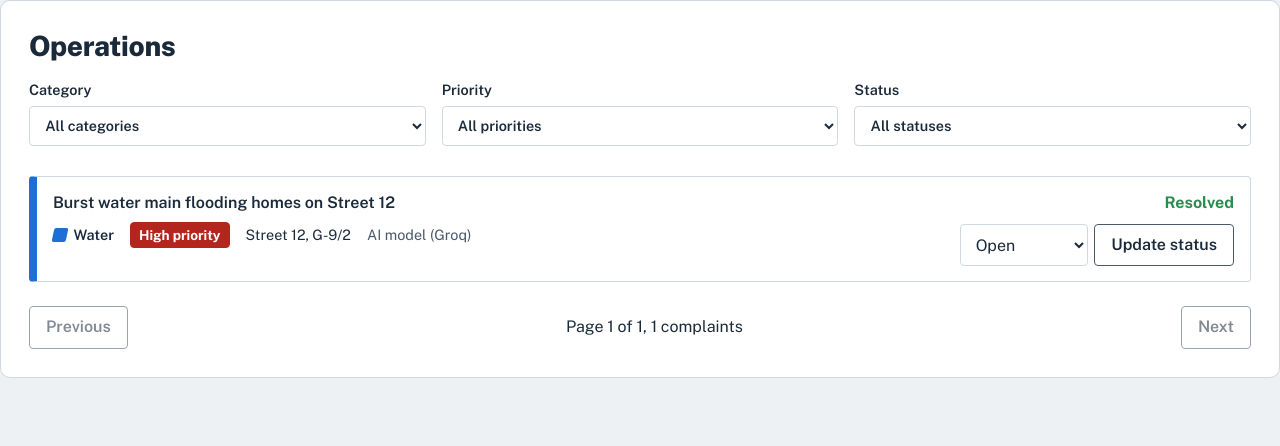
Test: surfaces the server's 409 message verbatim on an invalid transition
Expected: the text "Burst water main flooding homes on Street 12" is shown, [53, 193, 395, 212]
Select "Open" in the dropdown named "Change status": x=1024, y=245 [960, 224, 1088, 266]
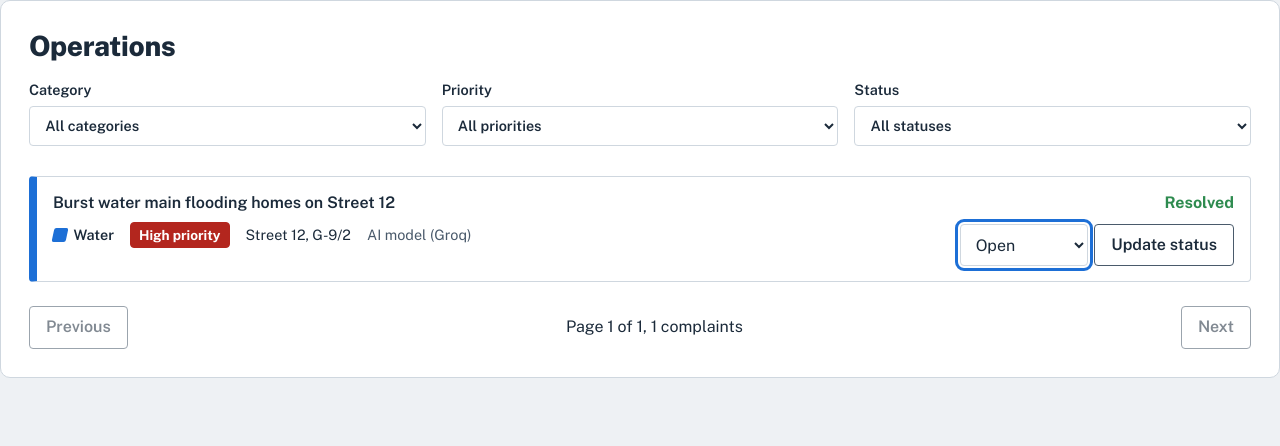
Click the button "Update status": x=1164, y=245 [1094, 224, 1234, 266]
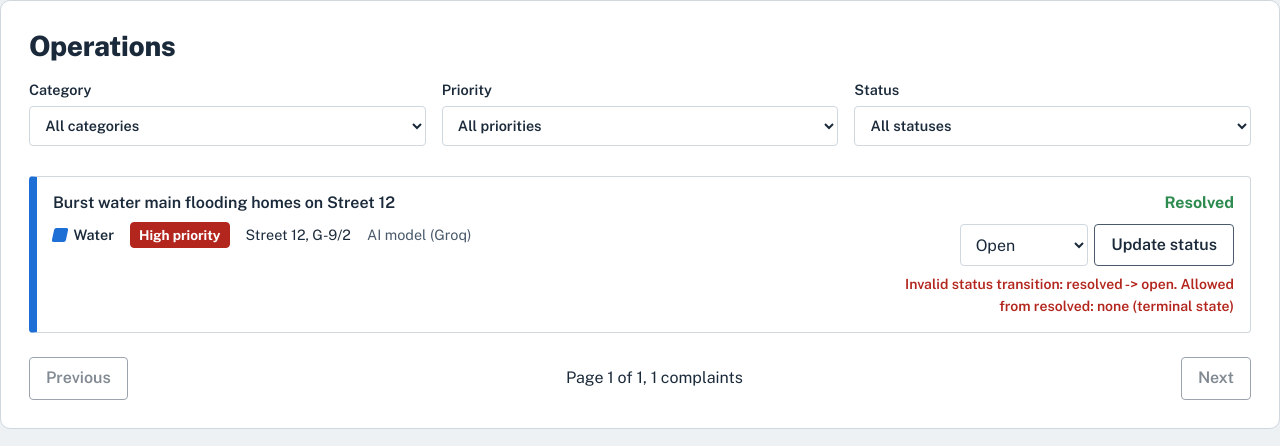
Now the message shows "Invalid status transition: resolved -> open. Allowed from resolved: none (terminal state)", box [905, 276, 1234, 314]
